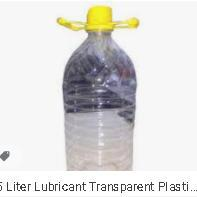bottle: (46, 2, 144, 175)
